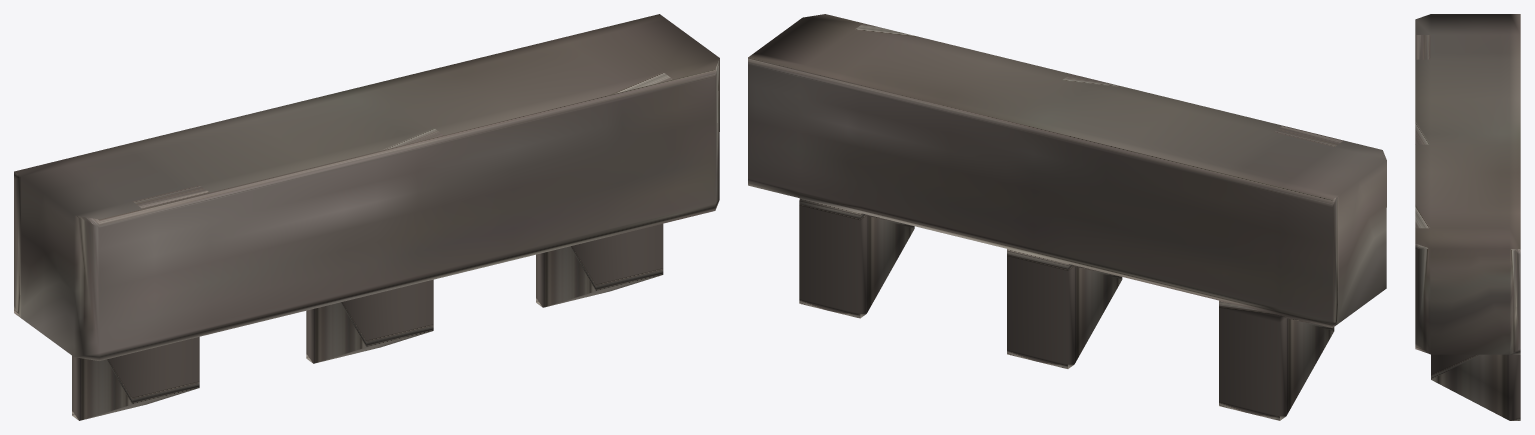
File: rampart2.glb
The picture shows the model from 3 angles, left to right: view 1: azimuth 30°, elevation 25°; view 2: azimuth 150°, elevation 25°; view 3: azimuth 270°, elevation 25°; orthographic projection. The views are drawn at different scales.
Visible parts, largest first — view 1: rampart2; view 2: rampart2; view 3: rampart2.
Boxes of the visible parts, <box> form: rampart2: <box>14,14,719,420</box>; rampart2: <box>748,14,1386,420</box>; rampart2: <box>1415,14,1520,420</box>.
Bounding box in the file's own units: 4.75 × 1.82 × 0.8986.
1 material, 1 textured.
